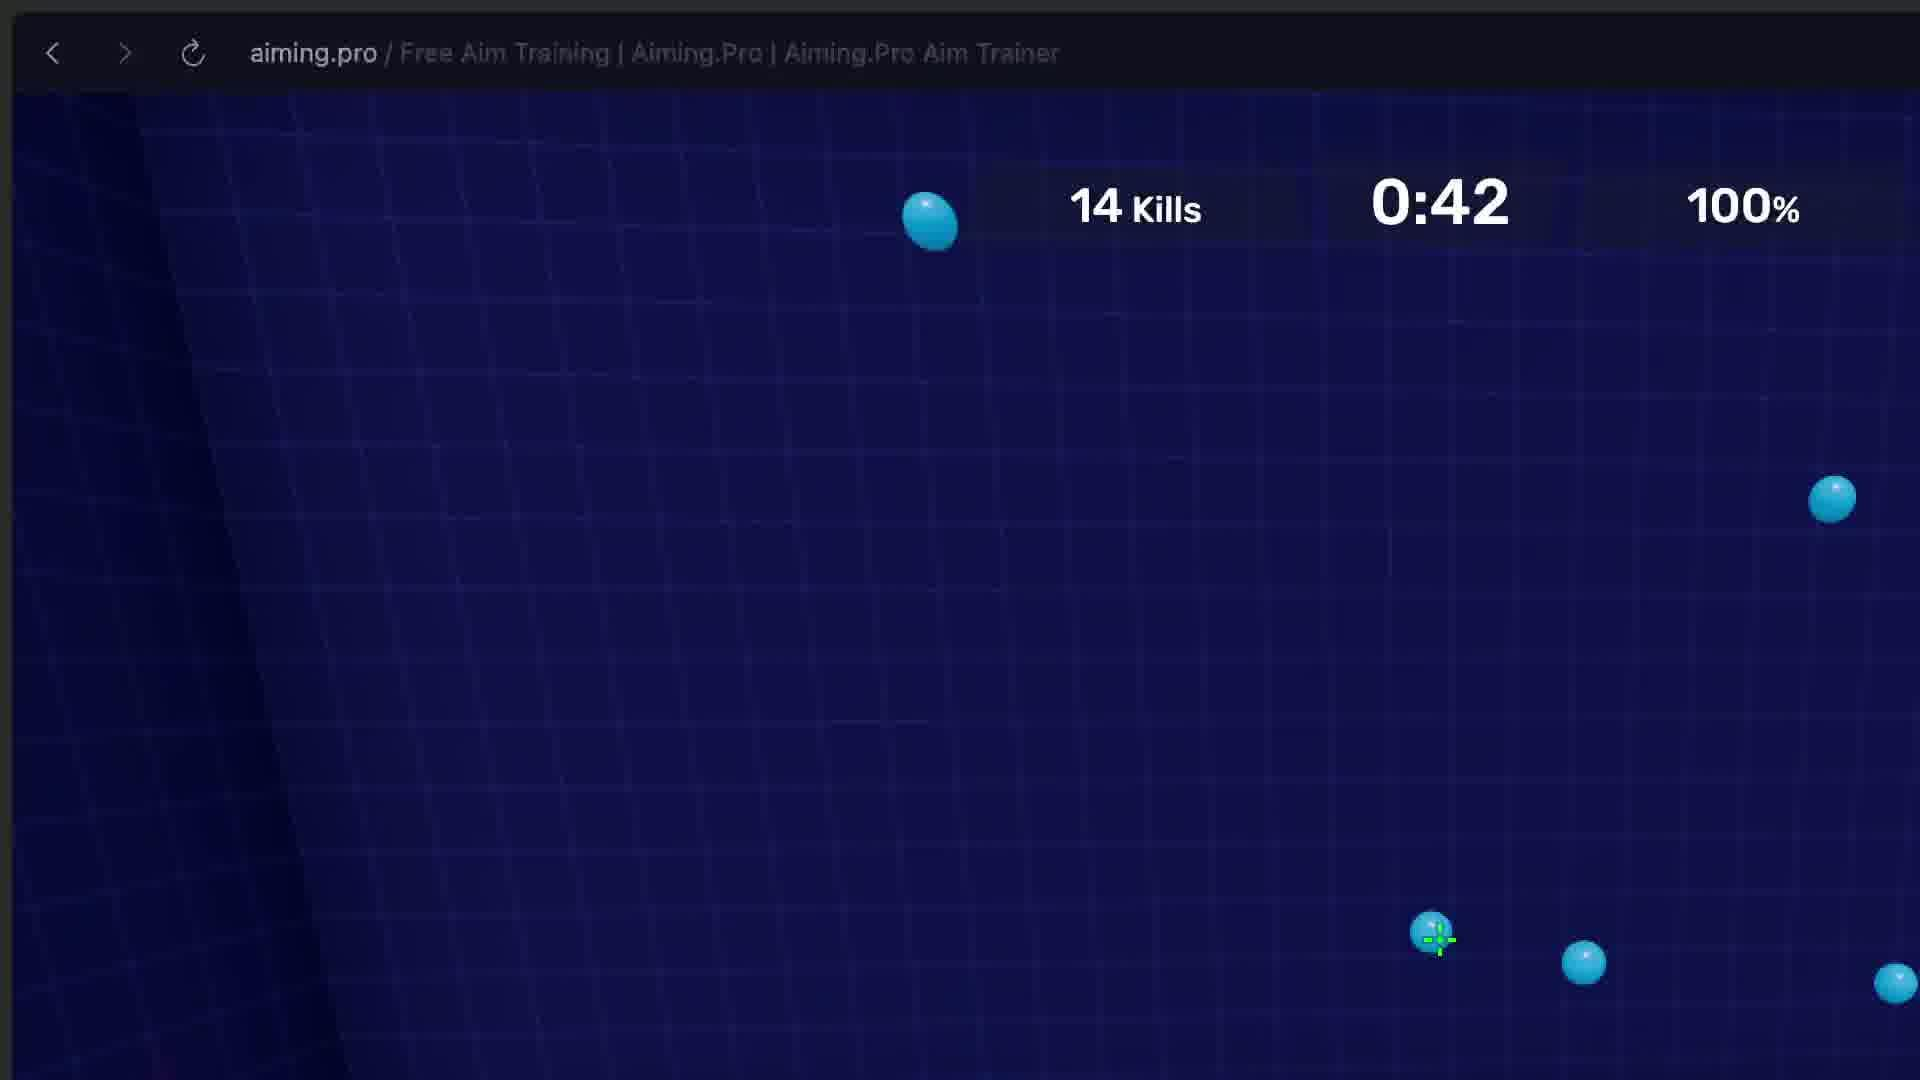target: (902, 193, 957, 252), (1809, 475, 1855, 524), (1561, 940, 1606, 985), (1411, 913, 1456, 956), (1875, 963, 1919, 1004)
